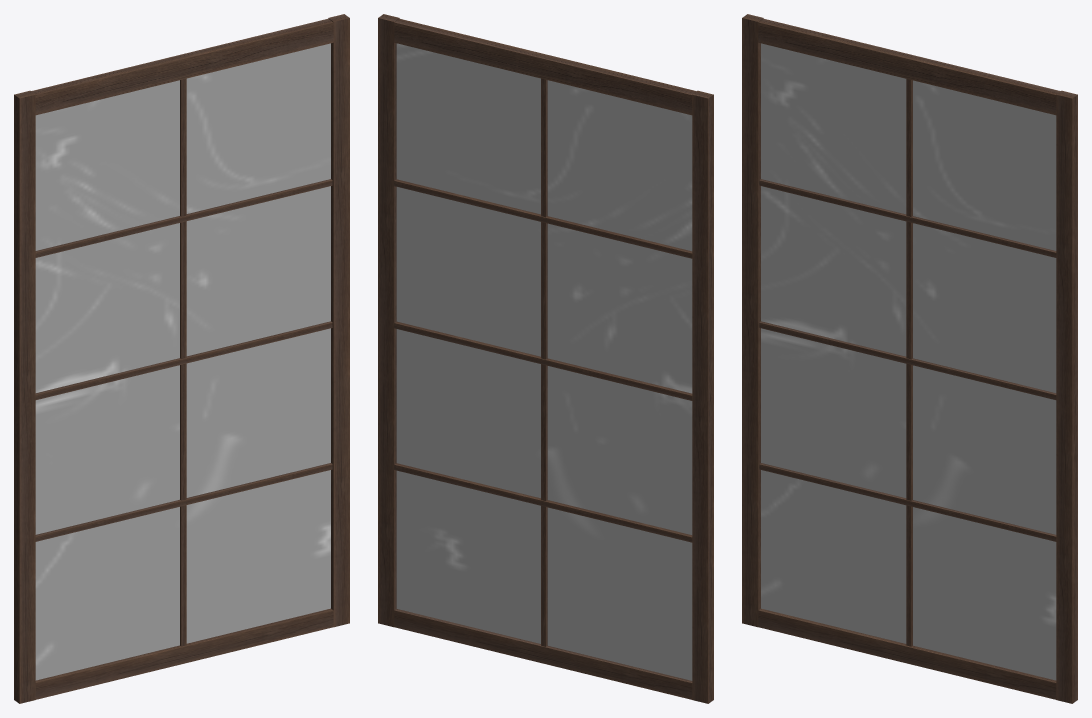
The model's file is window_b02.fbx.
The picture shows the model from 3 angles, left to right: view 1: azimuth 30°, elevation 25°; view 2: azimuth 150°, elevation 25°; view 3: azimuth 330°, elevation 25°; orthographic projection.
Visible parts, largest first — view 1: window_b02; view 2: window_b02; view 3: window_b02.
Boxes of the visible parts, x1=… form: window_b02: x1=14, y1=14, x2=349, y2=703; window_b02: x1=378, y1=14, x2=713, y2=703; window_b02: x1=742, y1=14, x2=1077, y2=703.
Bounding box in the file's own units: 81.13 × 142 × 2.33.
